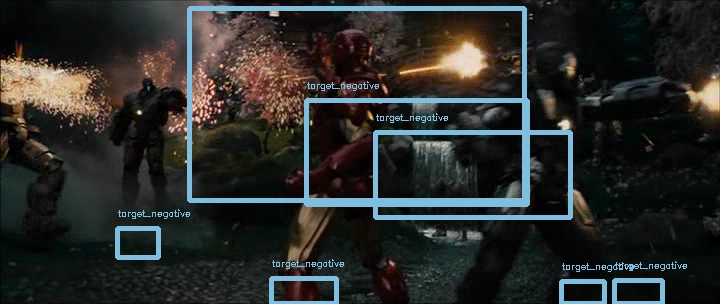person: (310, 22, 358, 78), (309, 22, 357, 78), (311, 22, 359, 78), (310, 21, 358, 77), (310, 23, 358, 79)
target_negative: (442, 184, 709, 259), (482, 118, 693, 183), (60, 128, 665, 141), (377, 168, 530, 193), (391, 46, 449, 66), (695, 205, 714, 225)
